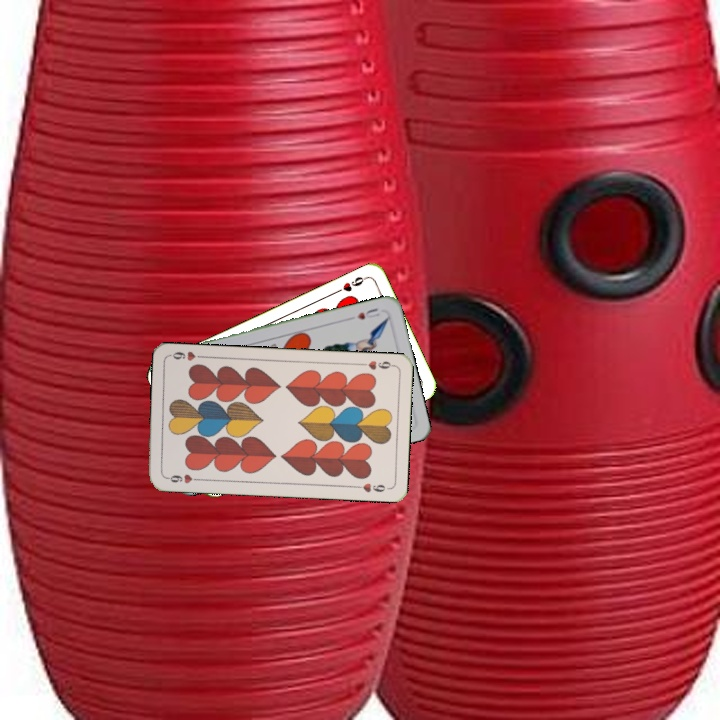H9: (331, 272, 369, 296), (162, 470, 203, 486), (356, 357, 397, 372)
HU: (353, 304, 382, 322)
